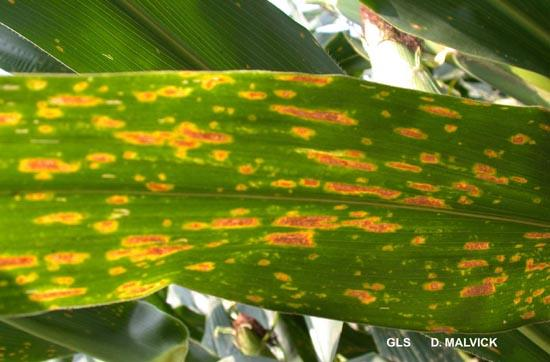Corn Gray leaf spot: (1, 60, 550, 333)
